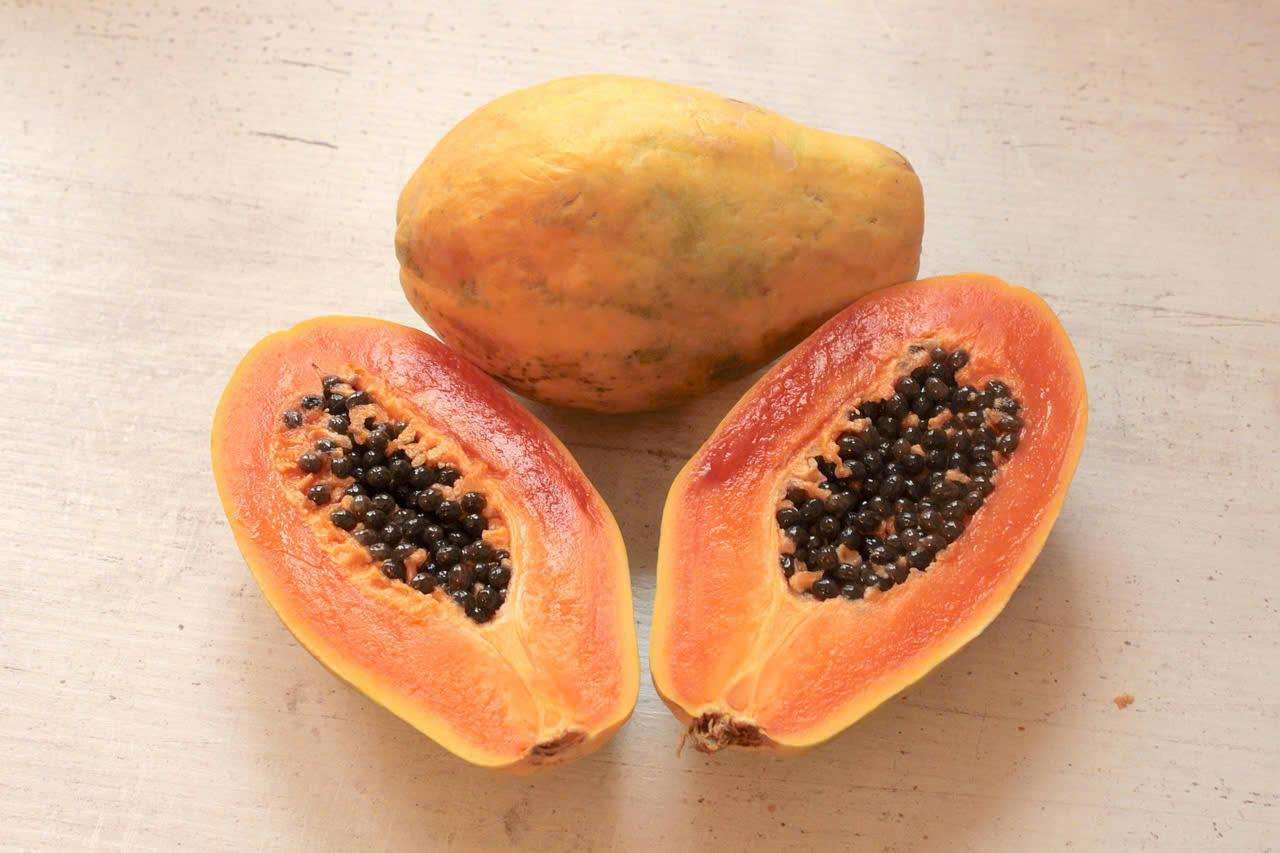papaya: (660, 274, 1105, 761), (208, 315, 640, 771), (367, 52, 975, 346)
